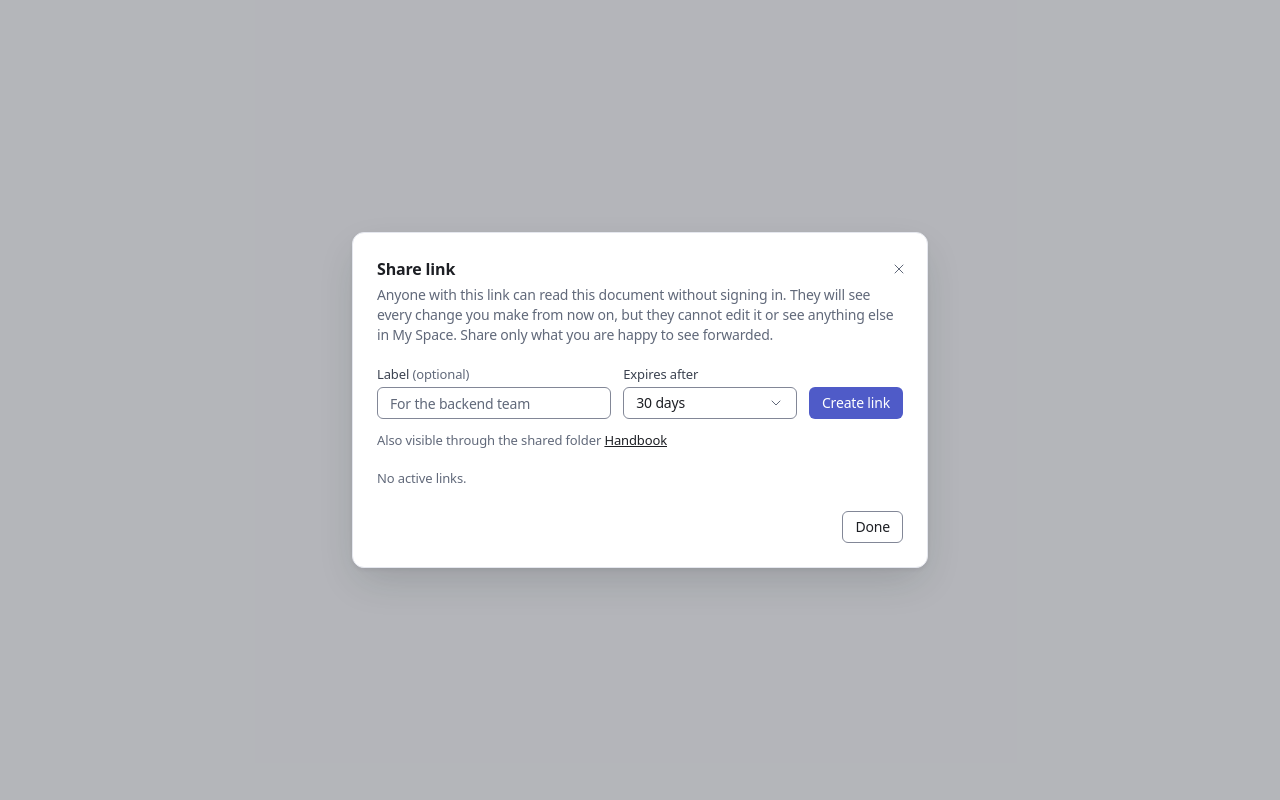
Scenario: the share dialog › says which shared folders also expose a document, and switches to that folder's links
Click the button "Handbook". click: {"x": 636, "y": 440}
box: top-left (604, 431), bottom-right (667, 449)
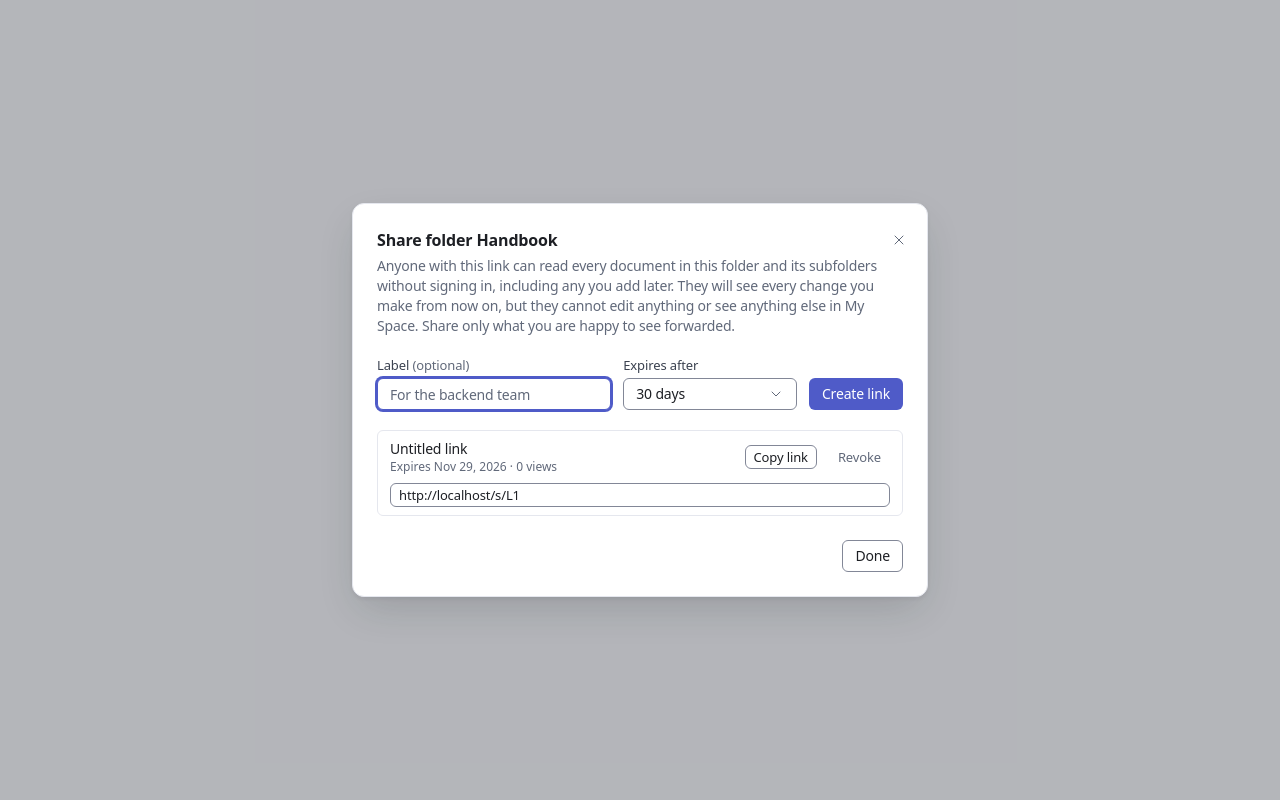
Now the list item is shown, box top-left (378, 431), bottom-right (902, 515)
Now the text "Share folder Handbook" is shown, box top-left (377, 229), bottom-right (558, 251)
Now the text "Also visible through" is gone
